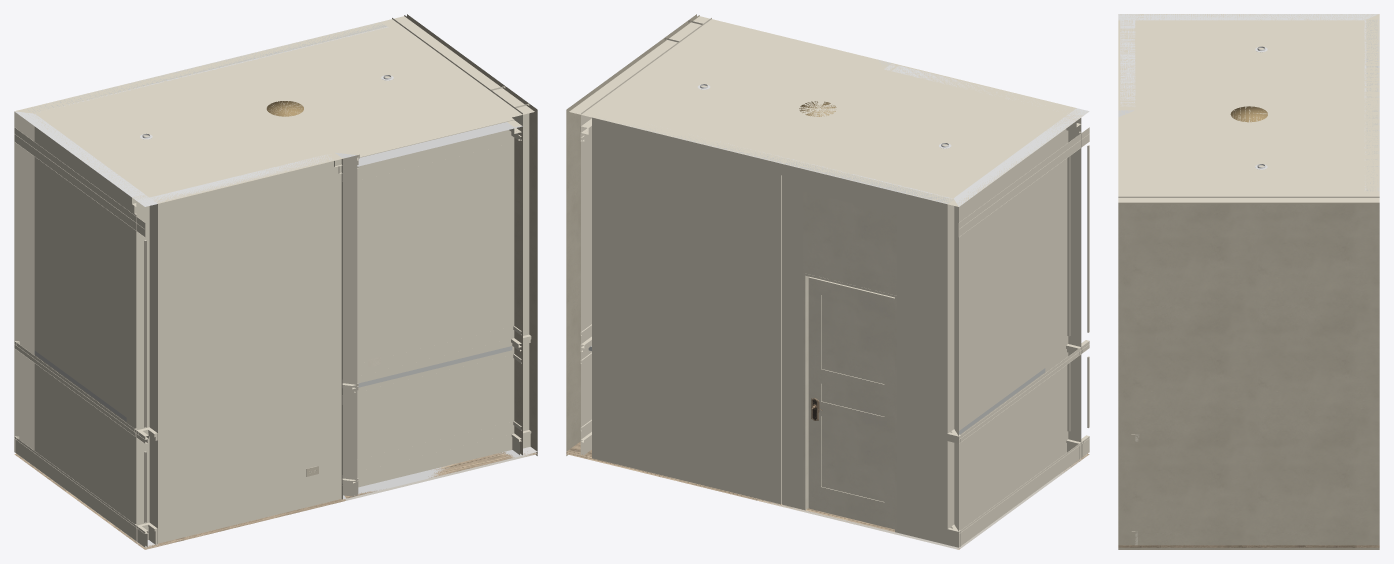
File: pantry-e6df59774b36.glb
3 views of the same model, side by side, from view 1: azimuth 30°, elevation 25°; view 2: azimuth 150°, elevation 25°; view 3: azimuth 270°, elevation 25° (orthographic).
Visible parts, largest first — view 1: pantry-e1ae12ec9cba52a2, pantry-e64cabe238f3e83a, pantry-2575515a05775d9e, pantry-5b6bbac285e58726, pantry-6a1144f4e43410bb, pantry-e462de76b61e99cf, pantry-1b1dac62f3b0f38e, pantry-ab25ce0be192bde7, pantry-2c29ddcb8551cb02, pantry-e54d813e60c9e7c4, pantry-3b0077416469e01b, pantry-4b4a529ae091588b (+11 smaller); view 2: pantry-bd4023b7987ad736, pantry-2575515a05775d9e, pantry-5b6bbac285e58726, pantry-90d279c9f3741083, pantry-af97eba351c411ae, pantry-151470939db8c09f, pantry-2c29ddcb8551cb02, pantry-b9e31e055fa428f9, pantry-e54d813e60c9e7c4, pantry-4b4a529ae091588b, pantry-6a1144f4e43410bb, pantry-3b0077416469e01b (+6 smaller); view 3: pantry-af97eba351c411ae, pantry-2575515a05775d9e, pantry-ab25ce0be192bde7, pantry-e462de76b61e99cf, pantry-4b4a529ae091588b, pantry-5b6bbac285e58726, pantry-e1ae12ec9cba52a2, pantry-ecf72e0057751250, pantry-710b1f455b9f0804, pantry-bd4023b7987ad736, pantry-deb6bd5c54985daf, pantry-3b0077416469e01b (+2 smaller).
Boxes of the visible parts, box(x1,y1,x2,y2) form: pantry-e1ae12ec9cba52a2: box(149, 154, 341, 543); pantry-e64cabe238f3e83a: box(342, 122, 522, 495); pantry-2575515a05775d9e: box(15, 15, 534, 203); pantry-5b6bbac285e58726: box(14, 111, 149, 540); pantry-6a1144f4e43410bb: box(136, 197, 157, 546); pantry-e462de76b61e99cf: box(514, 104, 537, 455); pantry-1b1dac62f3b0f38e: box(135, 434, 512, 524); pantry-ab25ce0be192bde7: box(490, 86, 529, 431); pantry-2c29ddcb8551cb02: box(14, 437, 145, 547); pantry-e54d813e60c9e7c4: box(14, 127, 145, 236); pantry-3b0077416469e01b: box(14, 451, 537, 549); pantry-4b4a529ae091588b: box(35, 27, 391, 116); pantry-bd4023b7987ad736: box(592, 117, 954, 544); pantry-2575515a05775d9e: box(569, 15, 1087, 206); pantry-5b6bbac285e58726: box(953, 114, 1081, 547); pantry-90d279c9f3741083: box(808, 277, 894, 529); pantry-af97eba351c411ae: box(566, 37, 679, 455); pantry-151470939db8c09f: box(803, 191, 896, 295); pantry-2c29ddcb8551cb02: box(959, 437, 1089, 547); pantry-b9e31e055fa428f9: box(803, 273, 896, 532); pantry-e54d813e60c9e7c4: box(958, 127, 1089, 236); pantry-4b4a529ae091588b: box(601, 110, 957, 198); pantry-6a1144f4e43410bb: box(1068, 108, 1089, 440); pantry-3b0077416469e01b: box(566, 441, 1089, 549); pantry-af97eba351c411ae: box(1183, 196, 1379, 545); pantry-2575515a05775d9e: box(1118, 14, 1379, 203); pantry-ab25ce0be192bde7: box(1135, 196, 1182, 545); pantry-e462de76b61e99cf: box(1118, 196, 1135, 545); pantry-4b4a529ae091588b: box(1355, 20, 1364, 192); pantry-5b6bbac285e58726: box(1135, 14, 1378, 20); pantry-e1ae12ec9cba52a2: box(1120, 20, 1135, 106); pantry-ecf72e0057751250: box(1368, 19, 1376, 192); pantry-710b1f455b9f0804: box(1135, 14, 1144, 109); pantry-bd4023b7987ad736: box(1364, 19, 1379, 191); pantry-deb6bd5c54985daf: box(1144, 20, 1355, 24); pantry-3b0077416469e01b: box(1118, 545, 1379, 547).
Size of the model in its own units: 3.62 by 3.05 by 2.09.
24 materials, 4 textured.
